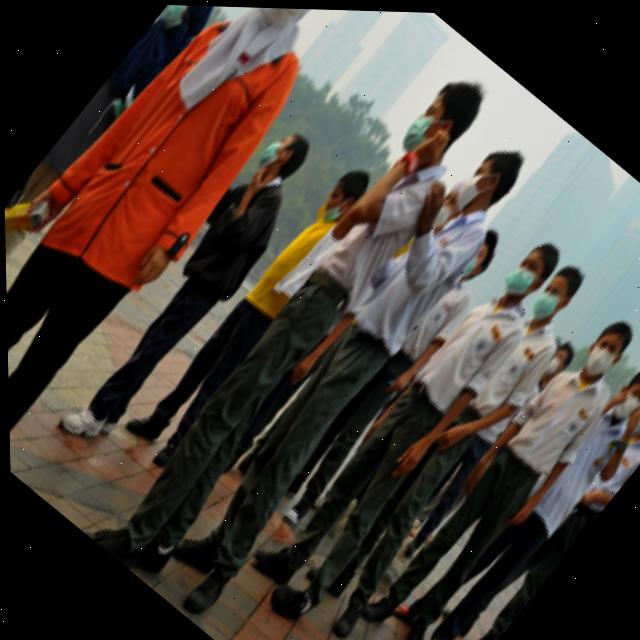Mask: (390, 88, 463, 167), (442, 151, 509, 222), (497, 241, 557, 306), (523, 269, 579, 329), (575, 326, 626, 379), (252, 127, 301, 179), (312, 174, 361, 225), (151, 4, 209, 42), (602, 376, 640, 424), (256, 6, 333, 29), (537, 341, 572, 379), (626, 390, 640, 440)
